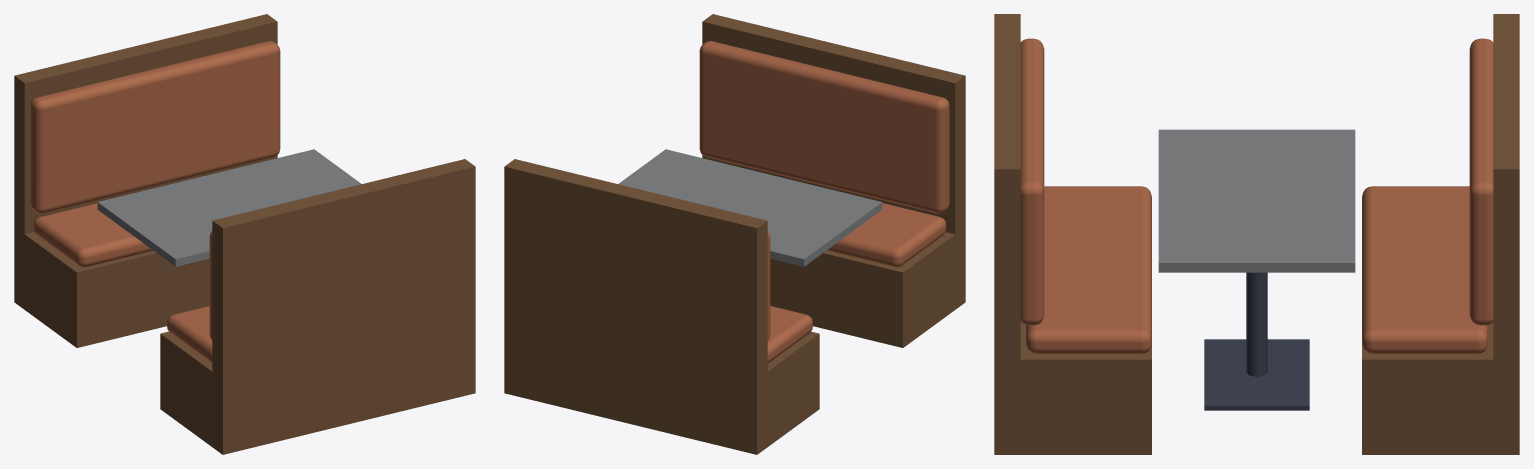
File: hsp-012.glb
The picture shows the model from 3 angles, left to right: view 1: azimuth 30°, elevation 25°; view 2: azimuth 150°, elevation 25°; view 3: azimuth 270°, elevation 25°; orthographic projection. The views are drawn at different scales.
Parts seen in each view (by area): view 1: walnut, upholstery_warm, stone_top; view 2: walnut, upholstery_warm, stone_top; view 3: upholstery_warm, walnut, stone_top, dark_steel.
Boxes of the visible parts, left/top/right/bottom form: walnut: left=14, top=14, right=475, bottom=454; upholstery_warm: left=30, top=41, right=280, bottom=363; stone_top: left=97, top=149, right=361, bottom=266; walnut: left=504, top=14, right=965, bottom=454; upholstery_warm: left=699, top=41, right=949, bottom=363; stone_top: left=618, top=149, right=882, bottom=266; upholstery_warm: left=1020, top=38, right=1493, bottom=353; walnut: left=994, top=14, right=1519, bottom=454; stone_top: left=1158, top=129, right=1355, bottom=272; dark_steel: left=1204, top=272, right=1309, bottom=410.
Bounding box in the file's own units: 1.4 × 1.2 × 2.
